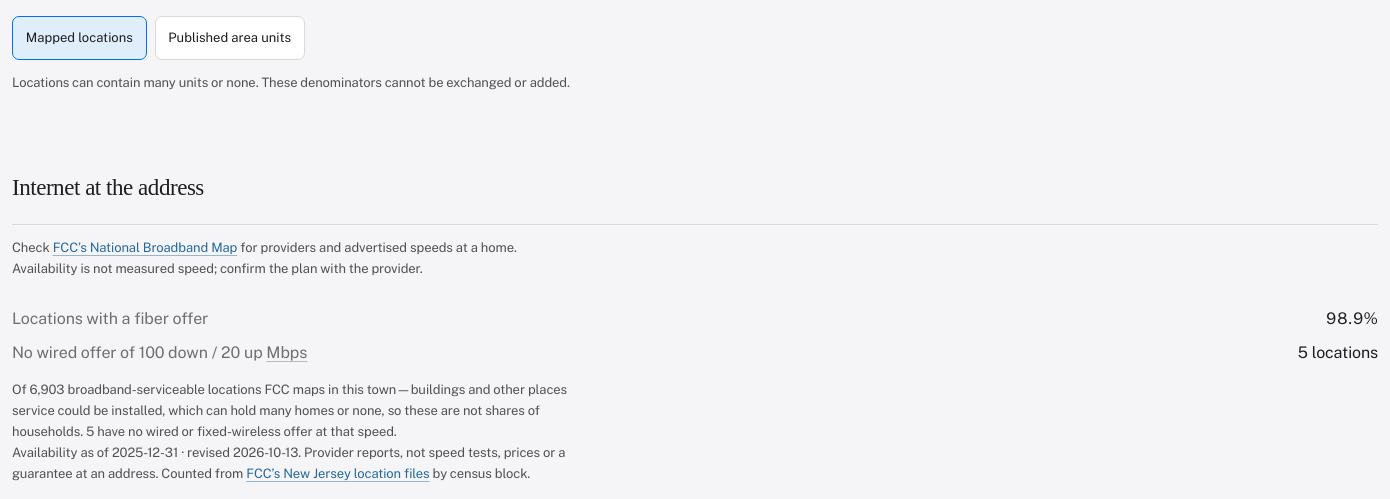
switches broadband denominator without hiding the county scope or reusing town location counts
Check: the text "Of 6,903 broadband-serviceable locations" is shown, box [12,380,569,443]
Step 1. Click the button "Published area units" → [230, 38], box [154,16,305,60]
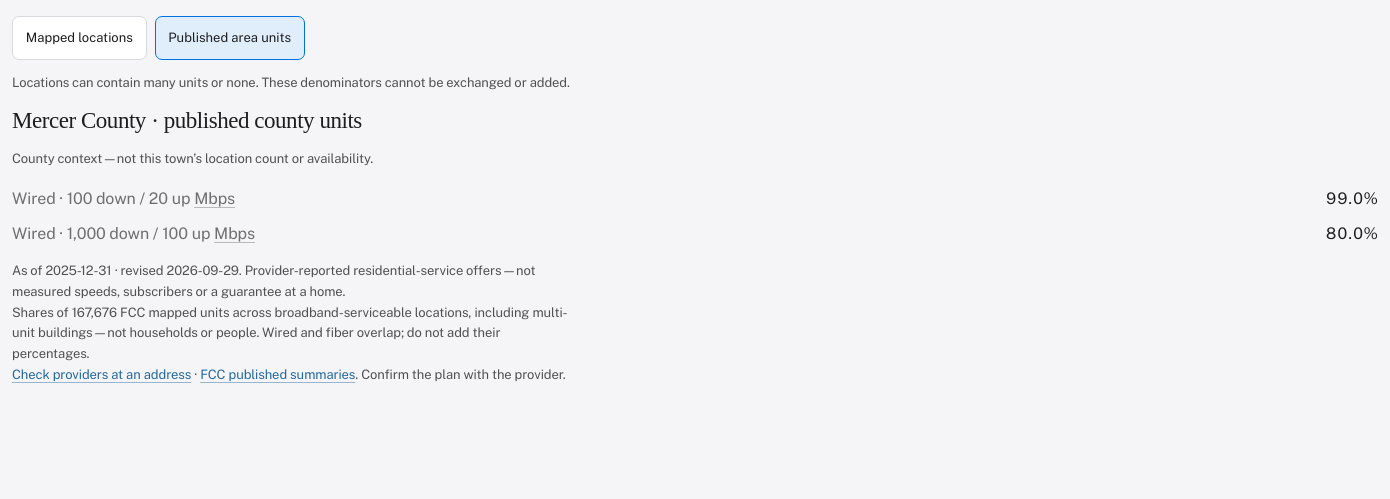
Check: the heading "Mercer County · published county units" is shown, box [12,108,362,133]
Check: the text "County context—not this town" is shown, box [12,151,373,166]
Check: the text "Shares of 167,676 FCC mapped units" is shown, box [12,302,569,365]
Step 2. Click the button "Mapped locations" → [79, 38], box [12,16,146,60]
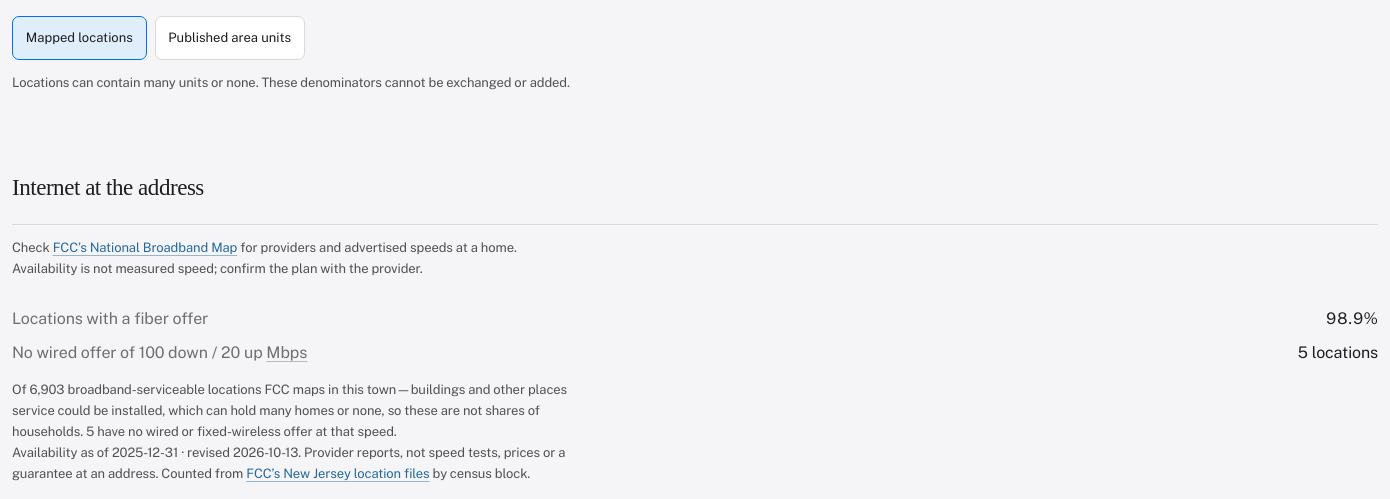
Check: the text "Of 6,903 broadband-serviceable locations" is shown, box [12,380,569,443]
